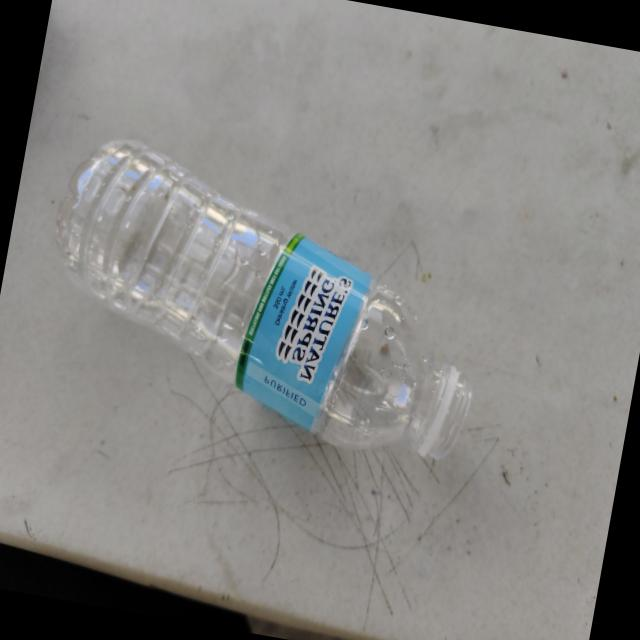Bottle: (57, 139, 472, 457)
